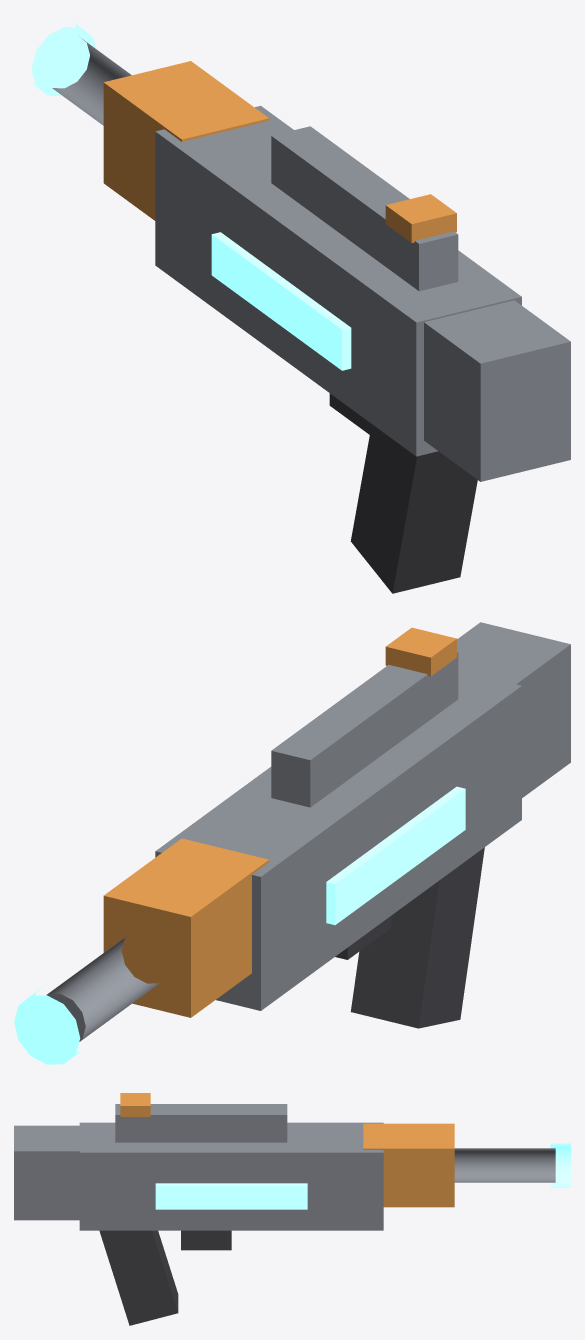
File: blaster.gltf
3 renders of one model, top to bottom at view 1: azimuth 30°, elevation 25°; view 2: azimuth 150°, elevation 25°; view 3: azimuth 270°, elevation 25°, orthographic. The views are drawn at different scales.
Visible parts, largest first — view 1: blaster; view 2: blaster; view 3: blaster.
Part boxes in pixels (bbox=[...]): blaster: bbox=[31, 17, 570, 593]; blaster: bbox=[14, 622, 570, 1064]; blaster: bbox=[14, 1093, 570, 1325].
Bounding box in the file's own units: 0.082 × 0.2362 × 0.55.
